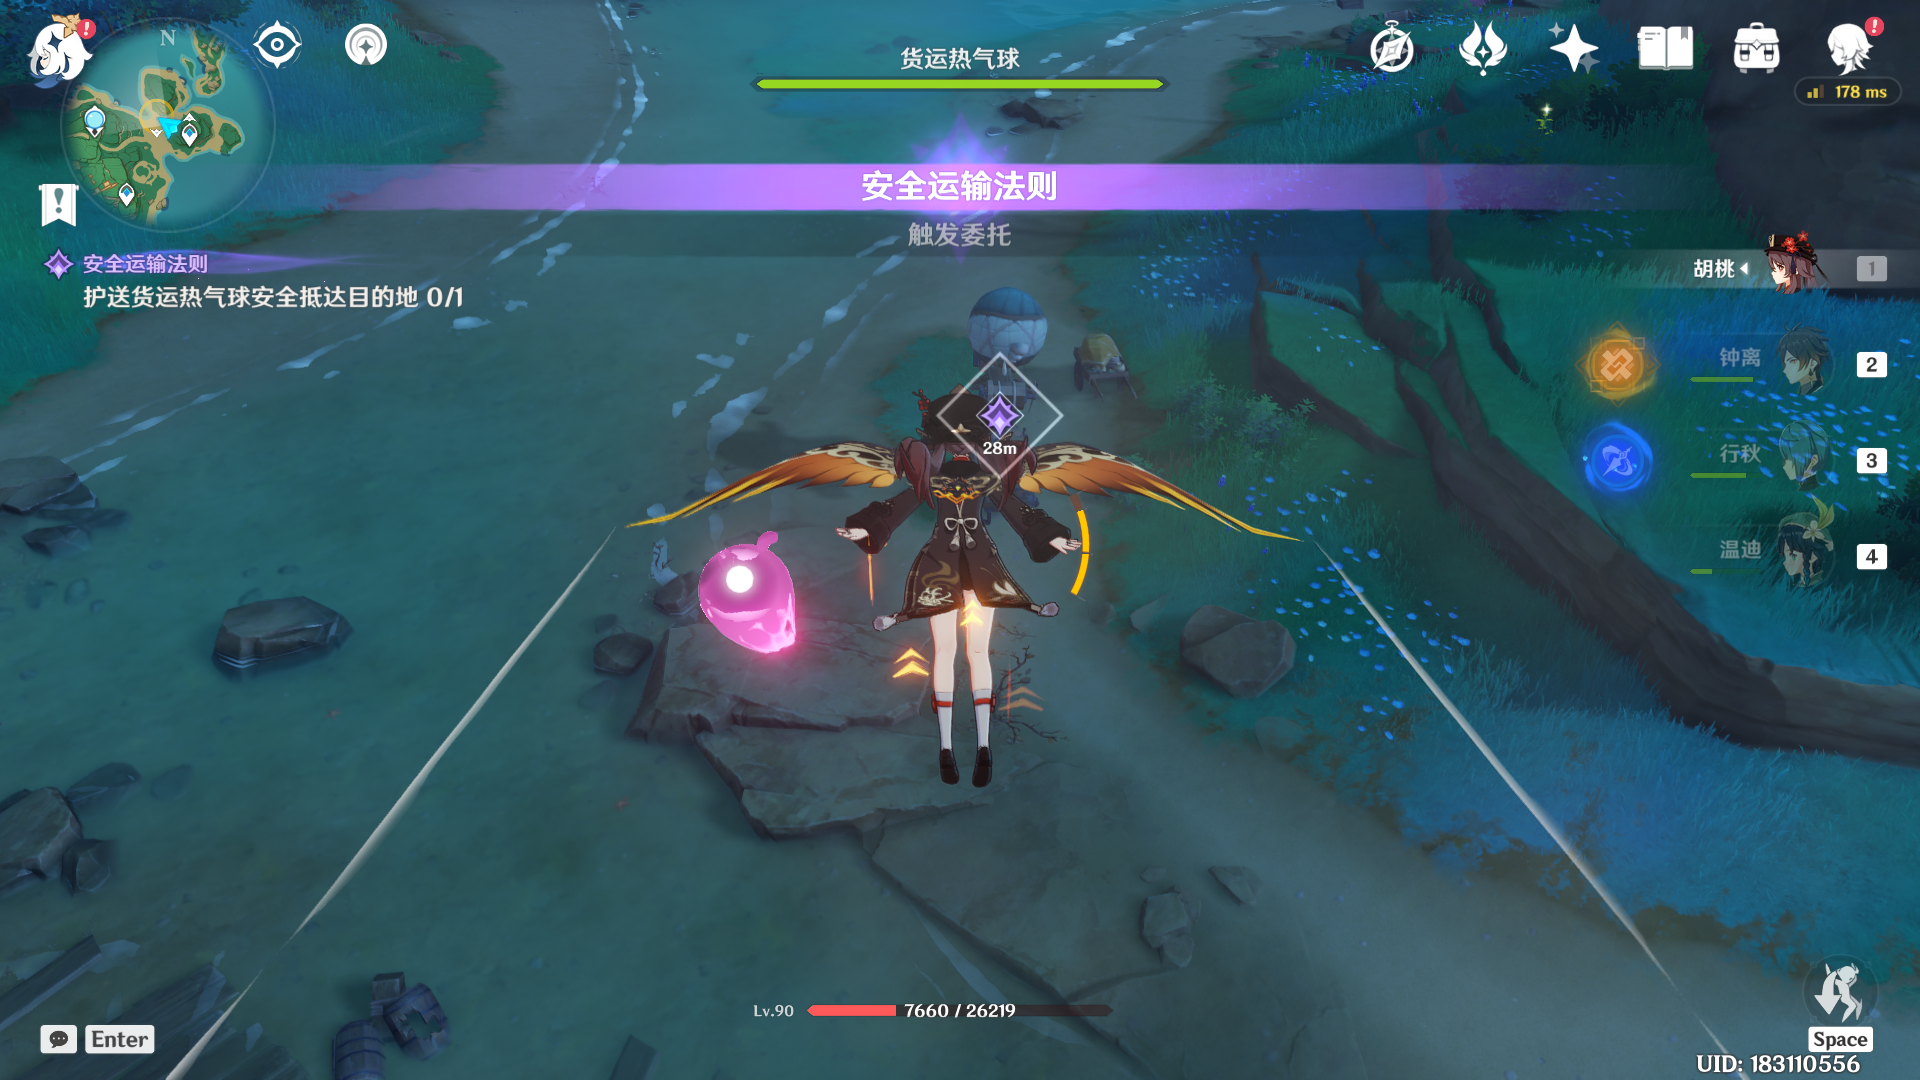character: (793, 359, 1168, 824)
